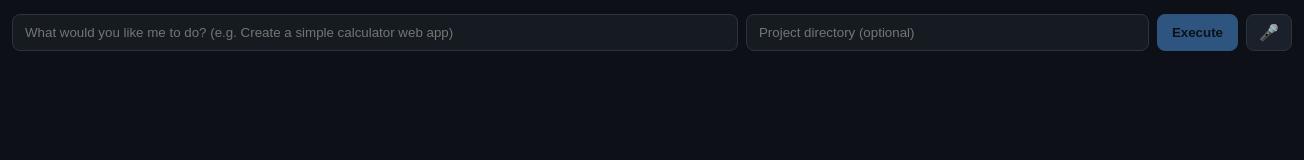
Scenario: Execute gating on core readiness › ready defaults to true (unit-level input logic unchanged)
Replace the text in the field labelled "What would you like me to do?" with "x": (375, 32) [12,14,738,51]
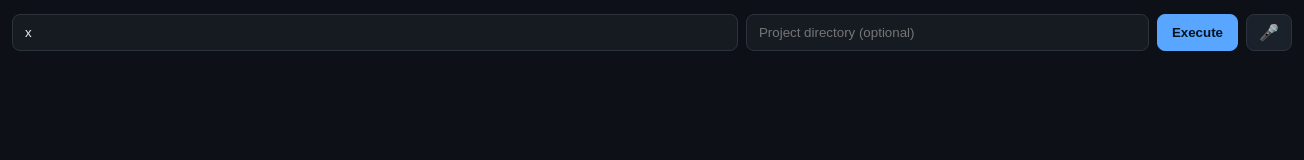
Check: the button with aria-label "Execute task" is enabled, box [1157,14,1238,51]
